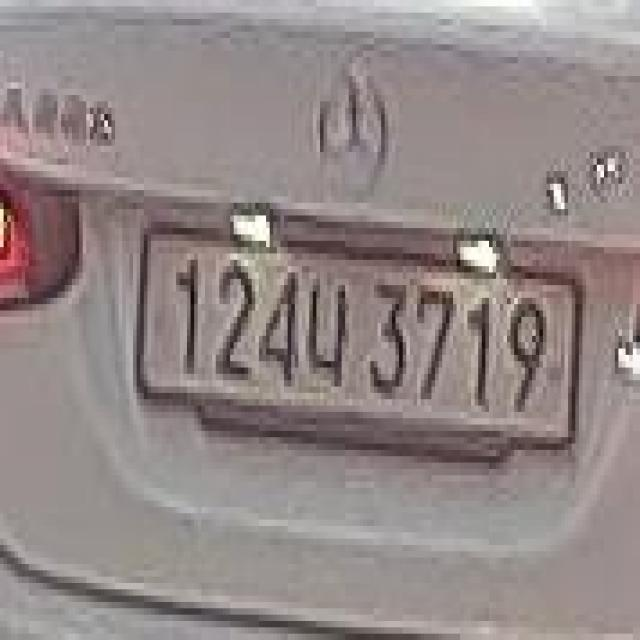illegal_plate: (135, 211, 585, 488)
